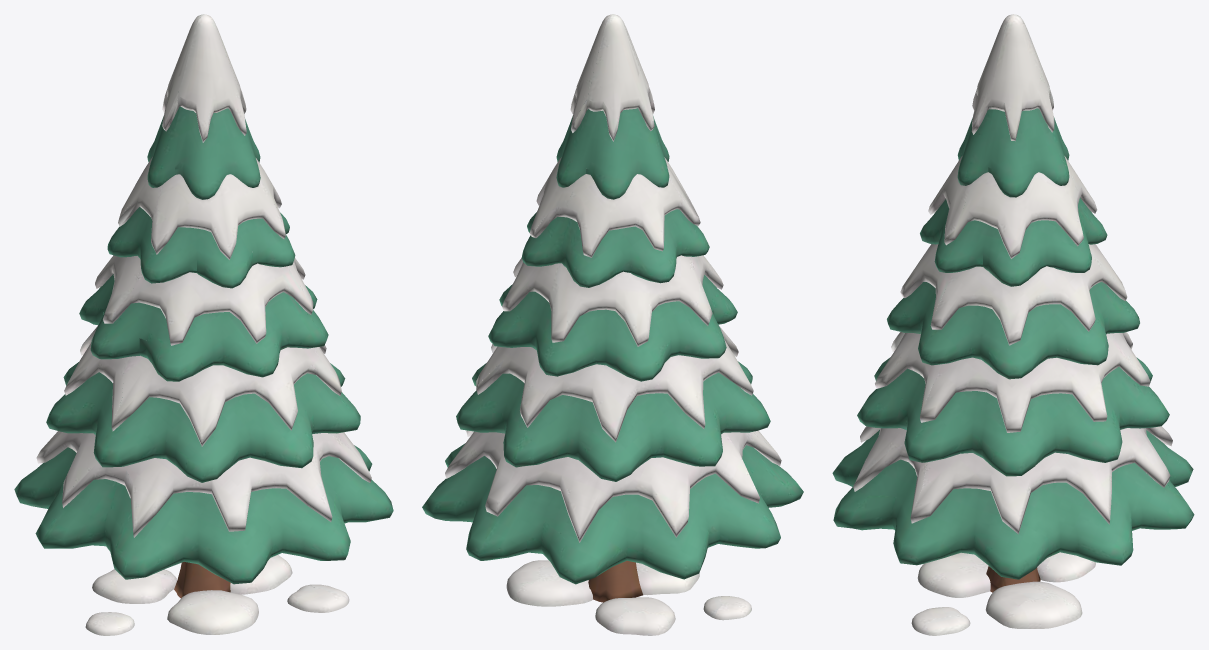
File: pino_nevado.glb
3 views of the same model, side by side, from view 1: azimuth 30°, elevation 25°; view 2: azimuth 150°, elevation 25°; view 3: azimuth 270°, elevation 25° (orthographic).
Visible parts, largest first — view 1: snowy-pine-tree_body; view 2: snowy-pine-tree_body; view 3: snowy-pine-tree_body.
Boxes of the visible parts, x1,y1,x2,y2 form: snowy-pine-tree_body: (14,14,393,635); snowy-pine-tree_body: (422,14,803,635); snowy-pine-tree_body: (832,14,1194,635).
Size of the model in its own units: 3.45 by 5.76 by 3.3.
Materials: 1 (1 with a texture image).
